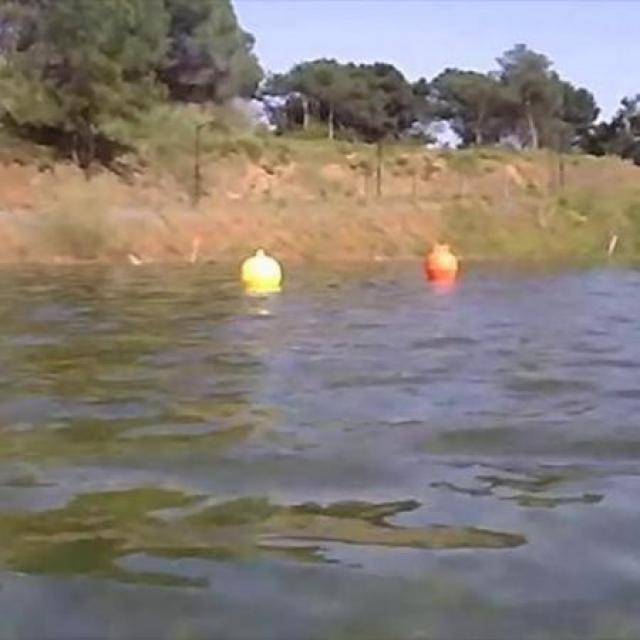buoy: (238, 248, 284, 292), (422, 242, 458, 280)
